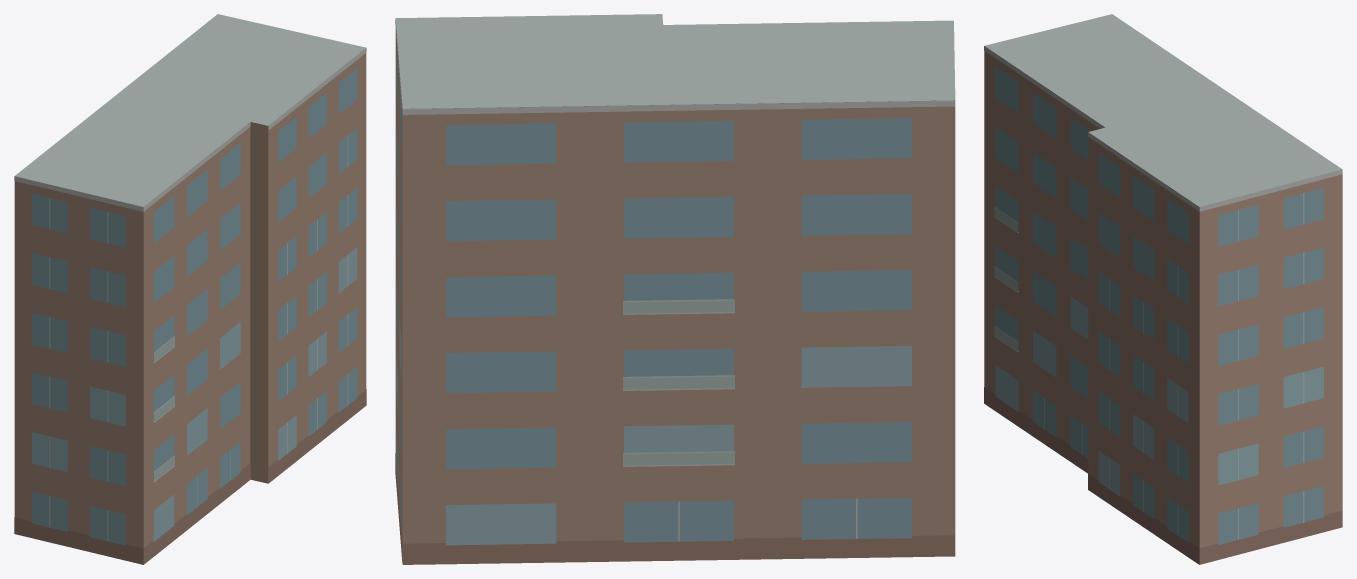
The model's file is survey-upis-32777003.glb.
The picture shows the model from 3 angles, left to right: view 1: azimuth 30°, elevation 25°; view 2: azimuth 150°, elevation 25°; view 3: azimuth 270°, elevation 25°; orthographic projection. The views are drawn at different scales.
Parts seen in each view (by area): view 1: survey-upis-32777003.tmp; view 2: survey-upis-32777003.tmp; view 3: survey-upis-32777003.tmp.
Boxes of the visible parts, left/top/right/bottom form: survey-upis-32777003.tmp: left=14, top=14, right=366, bottom=564; survey-upis-32777003.tmp: left=395, top=14, right=955, bottom=564; survey-upis-32777003.tmp: left=984, top=14, right=1342, bottom=564.
Bounding box in the file's own units: 21.18 × 18.3 × 16.63.
